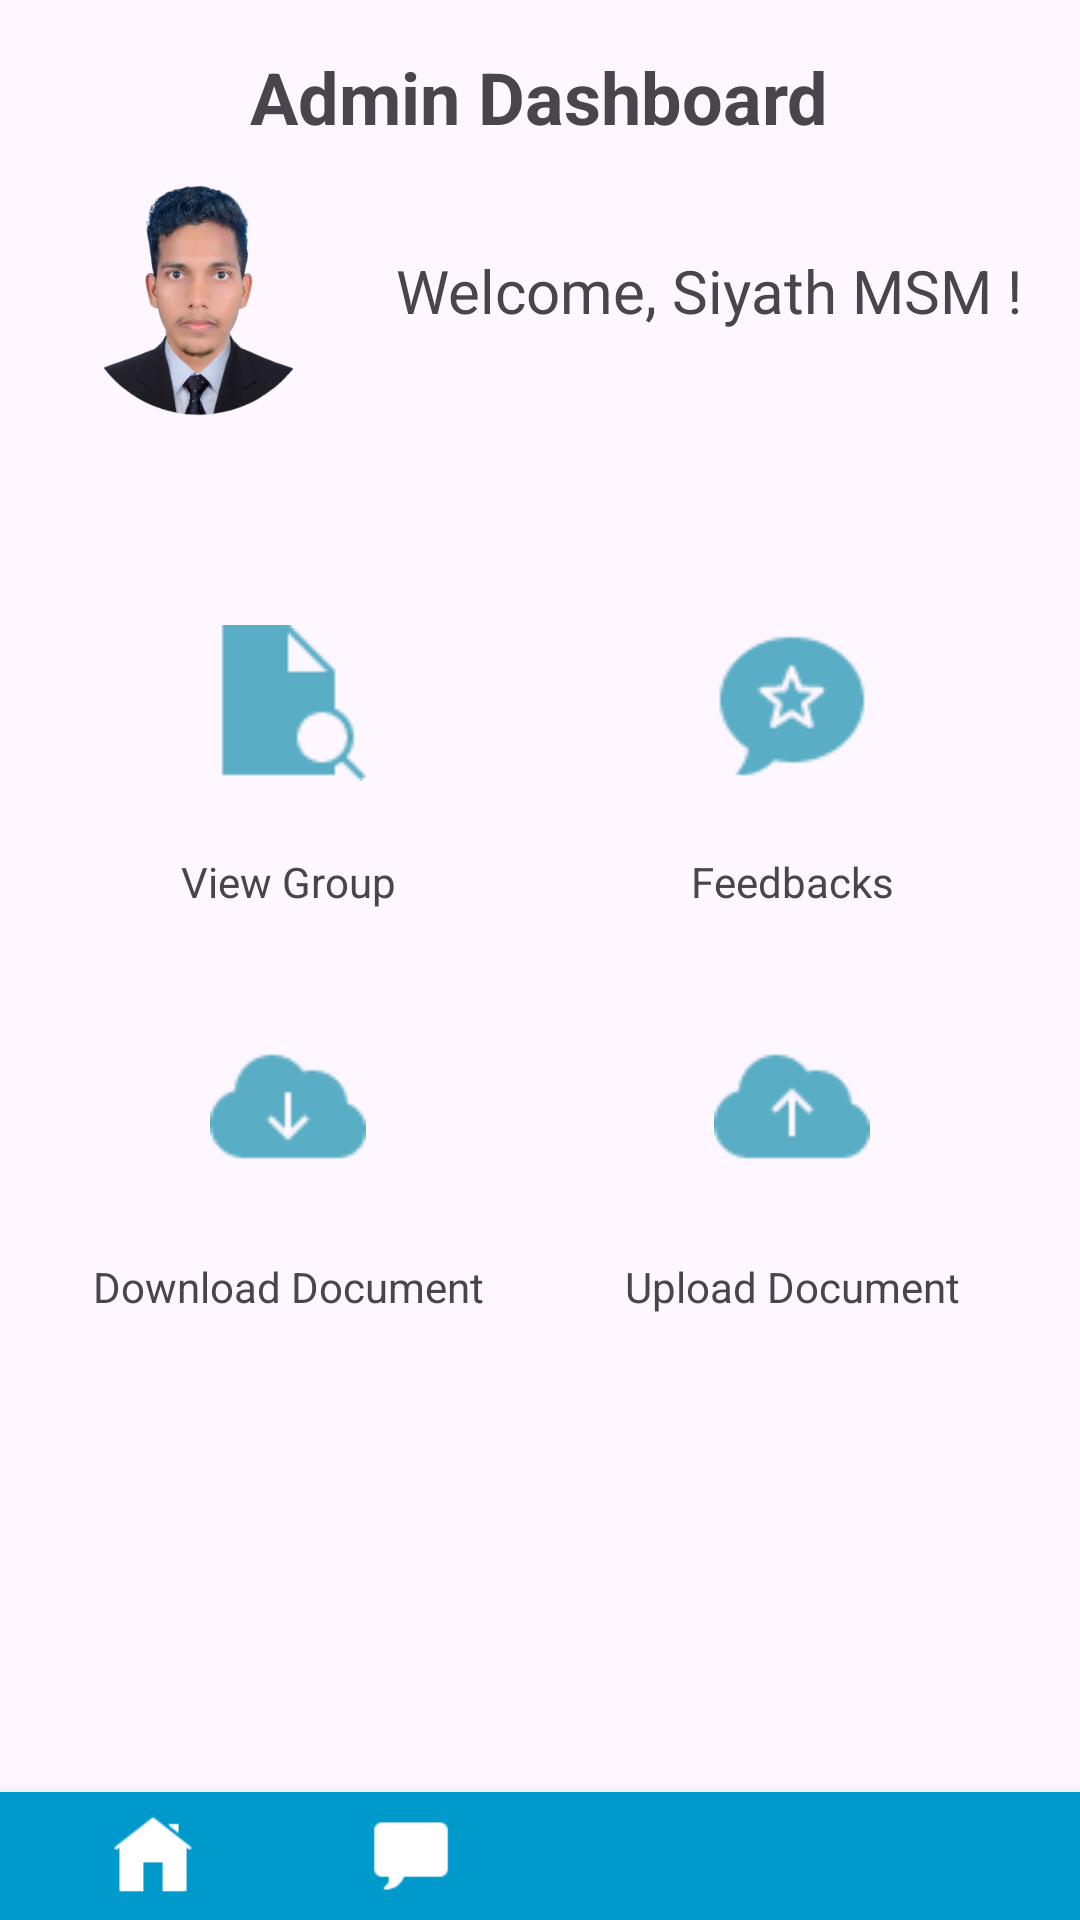

Screen size 1080 x 1920. Icon name, then its box in pixels as [x1, y1, x2, y2]:
chat: [374, 1822, 448, 1890]
home: [114, 1817, 192, 1892]
